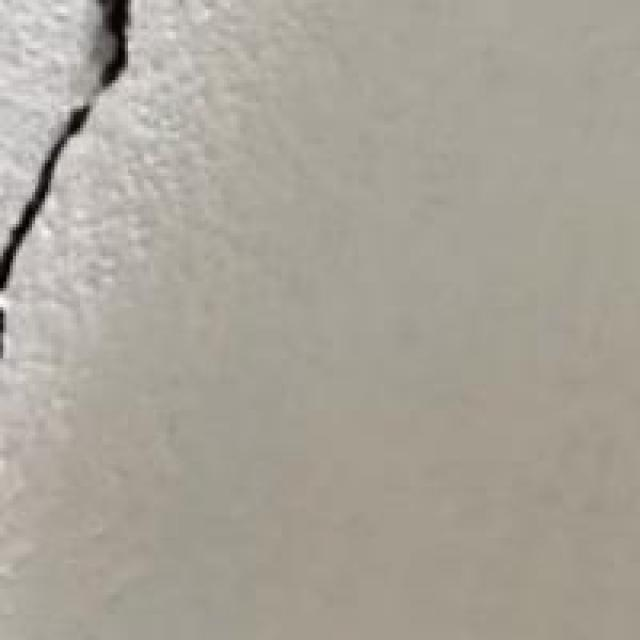crack: (0, 0, 176, 314)
